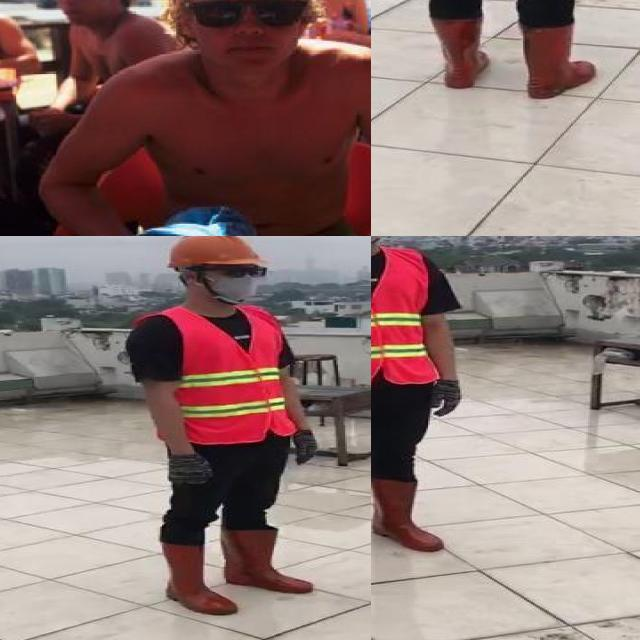boots: (514, 24, 601, 102), (371, 476, 449, 557), (158, 539, 238, 615), (220, 529, 316, 591), (425, 14, 495, 89)
face_mask: (197, 260, 266, 302)
face_nomask: (199, 0, 296, 66), (53, 0, 96, 24)
glasses: (189, 0, 306, 29), (210, 262, 270, 282)
hand_glove: (162, 449, 215, 486), (428, 382, 467, 416), (290, 429, 317, 471)
head_helmet: (160, 236, 266, 271)
person: (121, 236, 318, 620), (57, 0, 371, 236), (371, 236, 459, 563), (373, 0, 636, 105), (0, 0, 52, 73)
vest: (146, 307, 292, 441), (371, 246, 438, 386)
